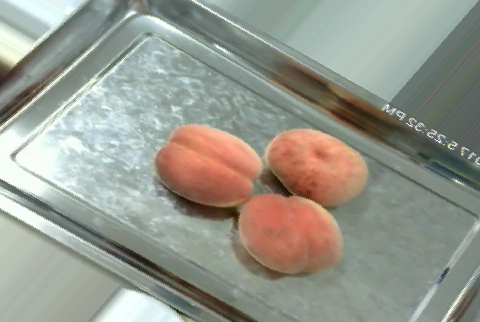Peach: (156, 122, 259, 207), (258, 127, 367, 206), (237, 193, 342, 273)
